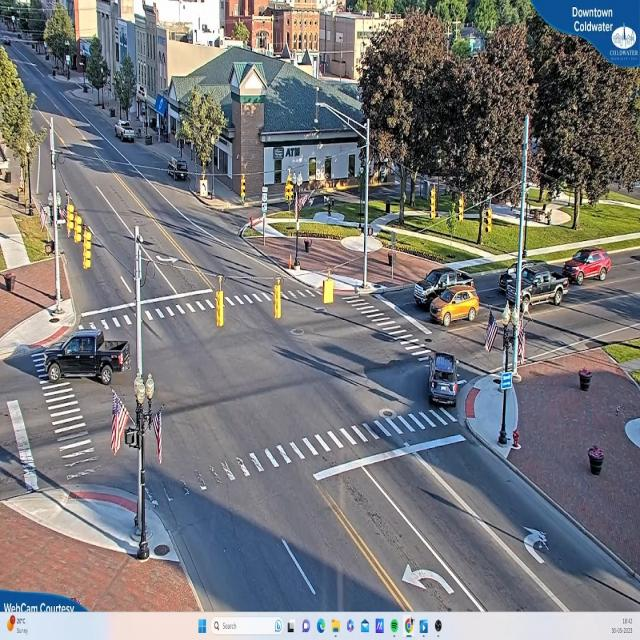car: (41, 326, 131, 387), (413, 265, 480, 326), (567, 248, 612, 284), (429, 354, 458, 405), (166, 158, 188, 180)
